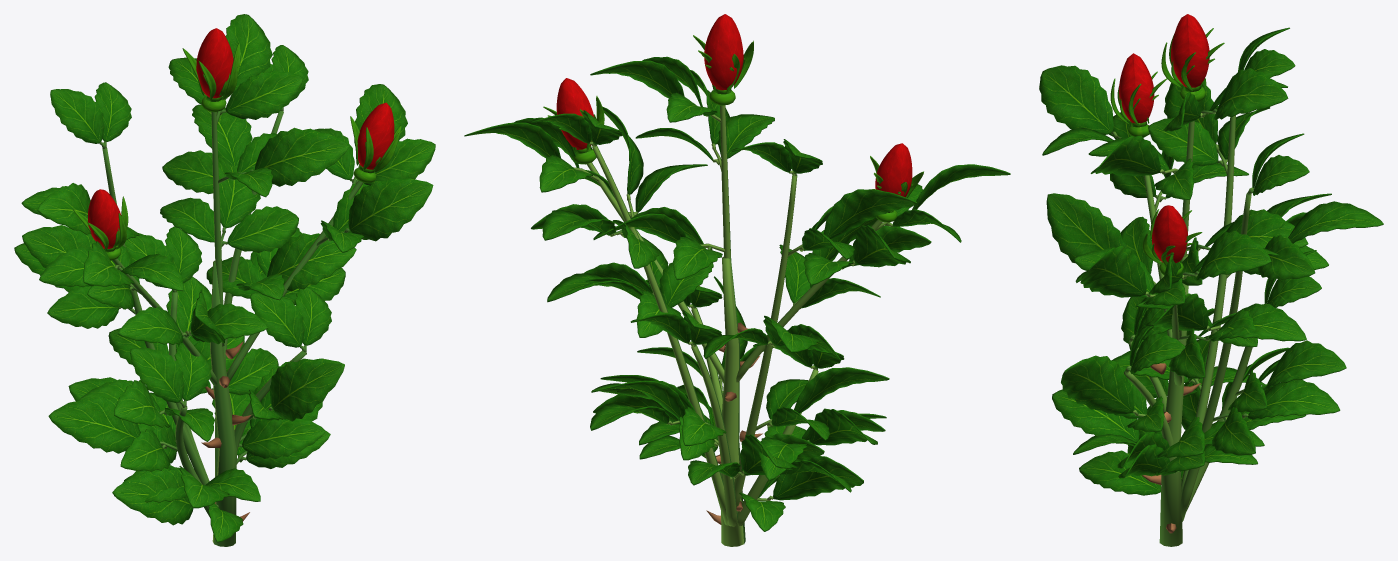
The model's file is NP_Rose_BudForming.fbx.
The picture shows the model from 3 angles, left to right: view 1: azimuth 30°, elevation 25°; view 2: azimuth 150°, elevation 25°; view 3: azimuth 270°, elevation 25°; orthographic projection. The views are drawn at different scales.
Parts seen in each view (by area): view 1: NP_Rose_BudForming; view 2: NP_Rose_BudForming; view 3: NP_Rose_BudForming.
Part boxes in pixels (box(x1,y1,x2,y2)): NP_Rose_BudForming: box(14, 14, 435, 546); NP_Rose_BudForming: box(464, 14, 1010, 546); NP_Rose_BudForming: box(1039, 14, 1383, 546).
Bounding box in the file's own units: 69.7 × 82 × 48.55.
